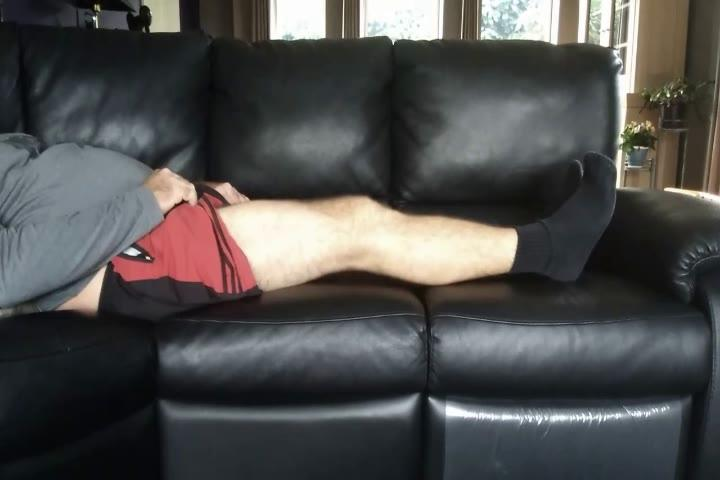lowerbody: (96, 144, 625, 335)
